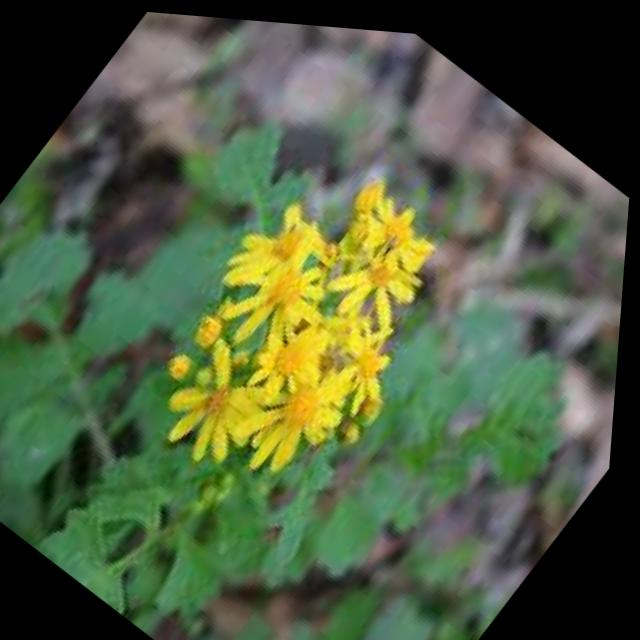Flower: (129, 119, 499, 525)
